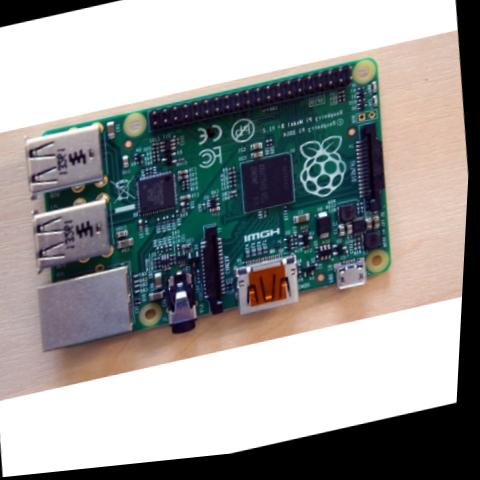Raspberry-Pi-1-Model-B-: (12, 55, 411, 372)
